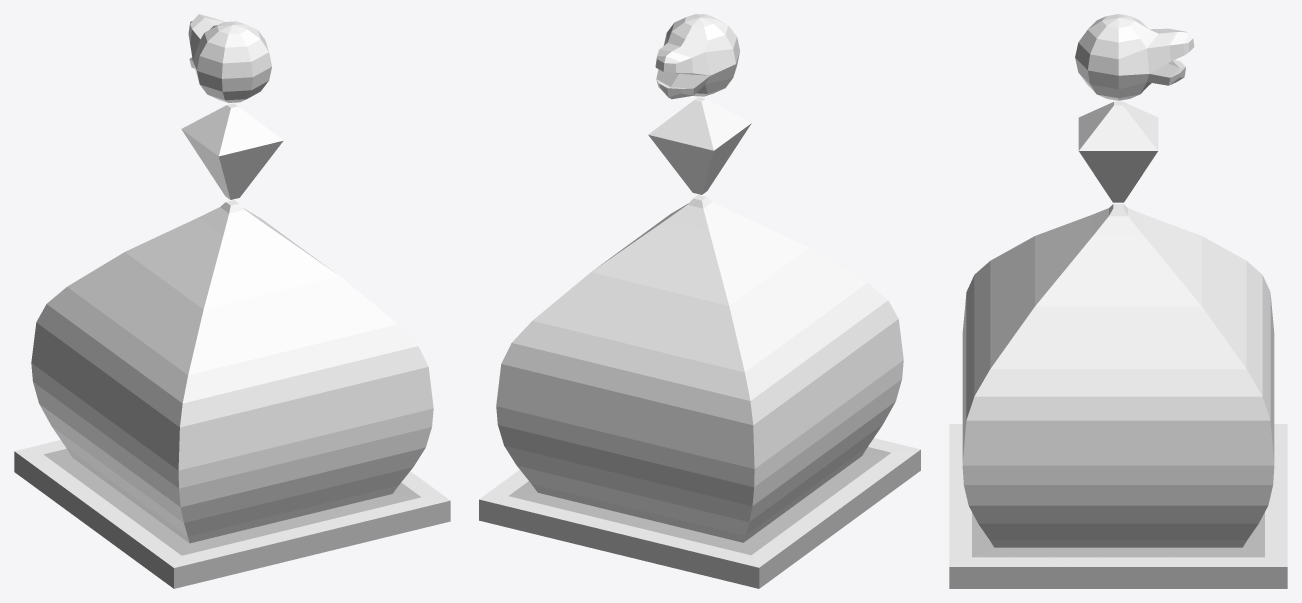
The model's file is TowerTopper.fbx.
The picture shows the model from 3 angles, left to right: view 1: azimuth 30°, elevation 25°; view 2: azimuth 150°, elevation 25°; view 3: azimuth 270°, elevation 25°; orthographic projection. The views are drawn at different scales.
Parts seen in each view (by area): view 1: Cube; view 2: Cube; view 3: Cube.
Boxes of the visible parts, x1=… form: Cube: x1=14, y1=14, x2=450, y2=588; Cube: x1=479, y1=14, x2=920, y2=588; Cube: x1=949, y1=14, x2=1287, y2=588.
Size of the model in its own units: 222 by 361 by 222.
